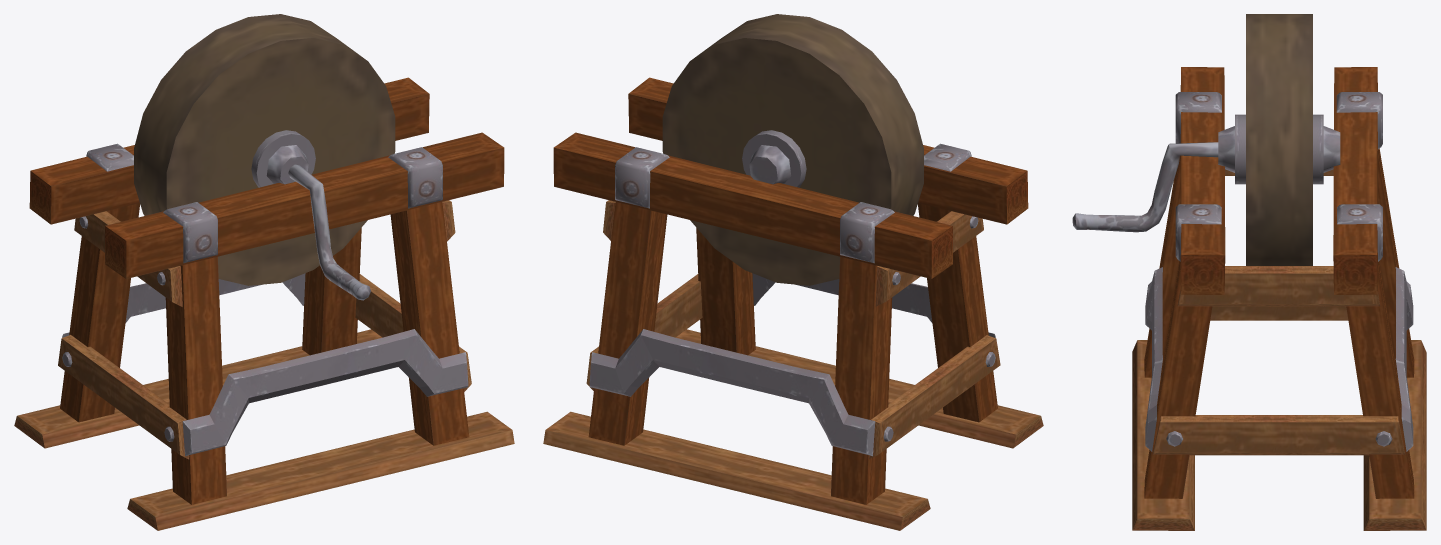
Rendered from Whetstone.gltf.
3 renders of one model, left to right at view 1: azimuth 30°, elevation 25°; view 2: azimuth 150°, elevation 25°; view 3: azimuth 270°, elevation 25°, orthographic. The views are drawn at different scales.
Visible parts, largest first — view 1: Whetstone; view 2: Whetstone; view 3: Whetstone.
Boxes of the visible parts, left/top/right/bottom form: Whetstone: left=14, top=14, right=514, bottom=530; Whetstone: left=543, top=14, right=1043, bottom=530; Whetstone: left=1072, top=14, right=1426, bottom=530.
Size of the model in its own units: 1.14 by 1.17 by 0.9018.
3 materials, 3 textured.
